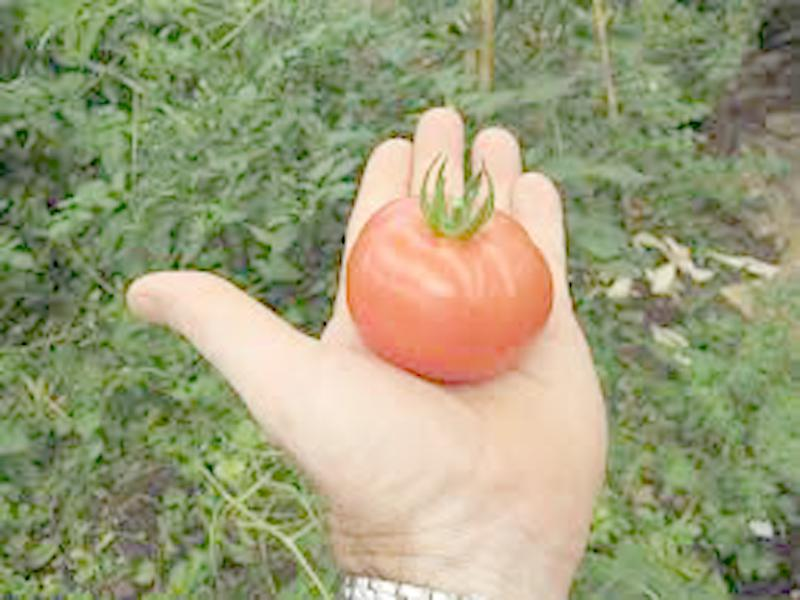Tomato: (343, 198, 556, 380)
